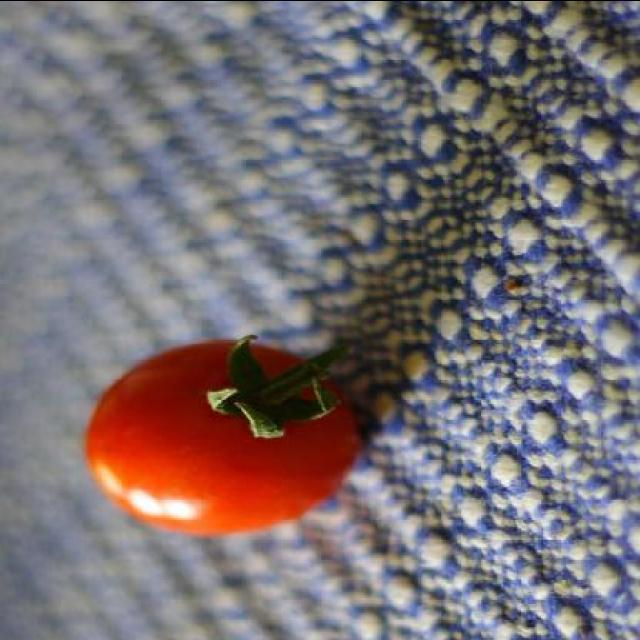Tomato: (80, 334, 358, 542)
